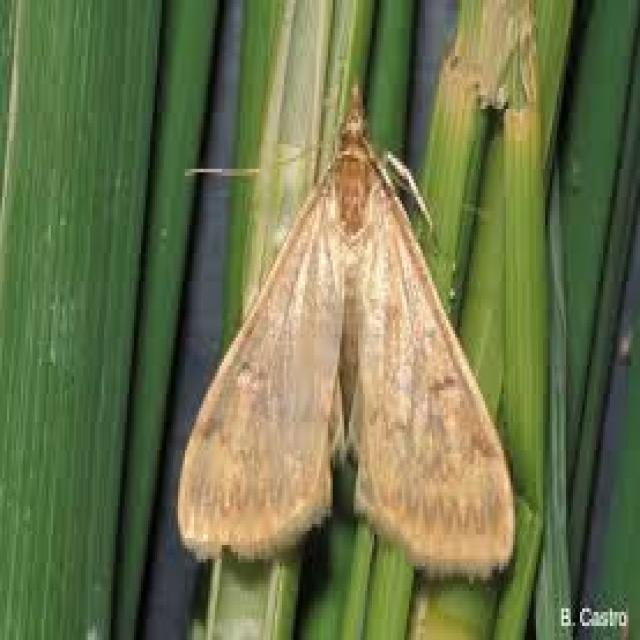yellow-stem-borer: (151, 80, 536, 581)
